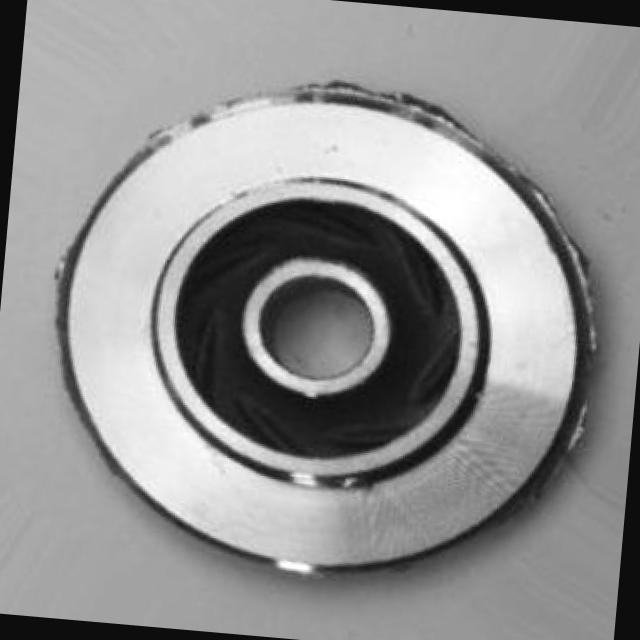Defect: (518, 173, 638, 338)
